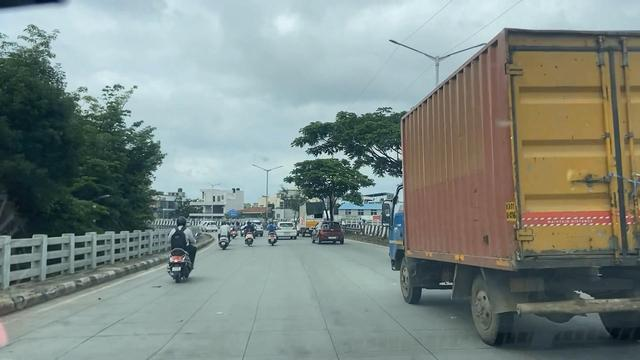LMV: (171, 214, 193, 277), (313, 219, 343, 244), (276, 219, 299, 242), (263, 218, 280, 243), (219, 218, 231, 252), (239, 219, 253, 248)
